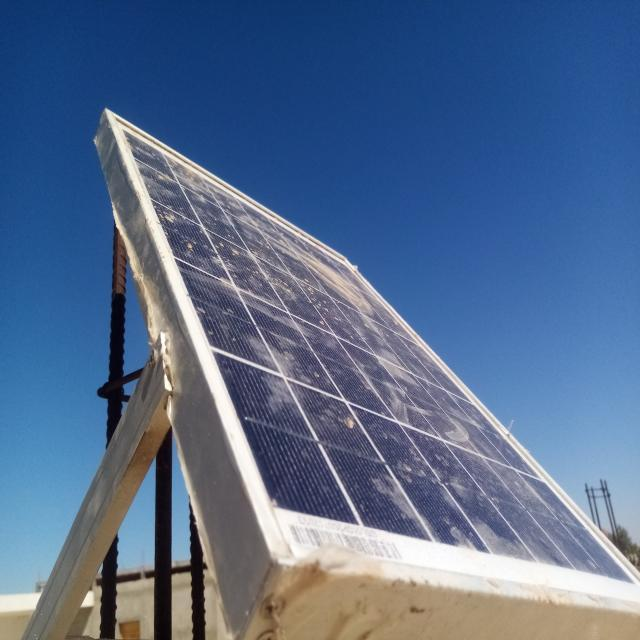faulty: (111, 111, 640, 605)
